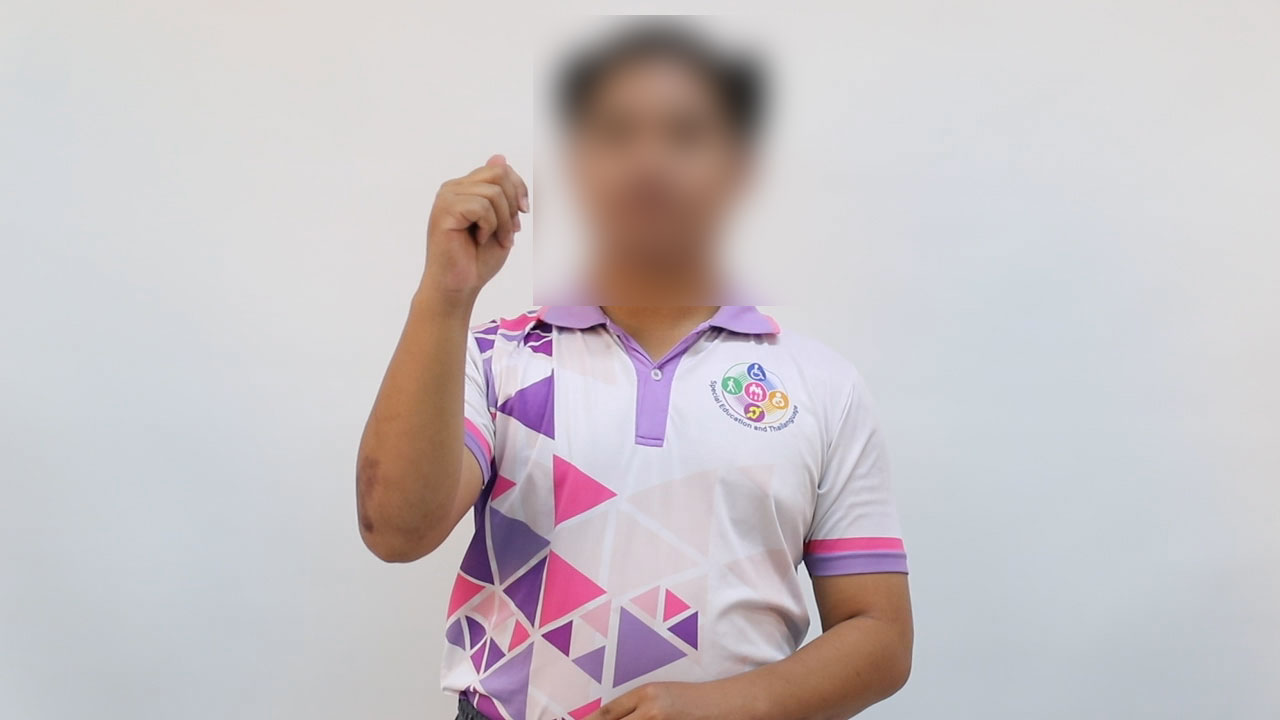tor: (408, 138, 548, 320)
